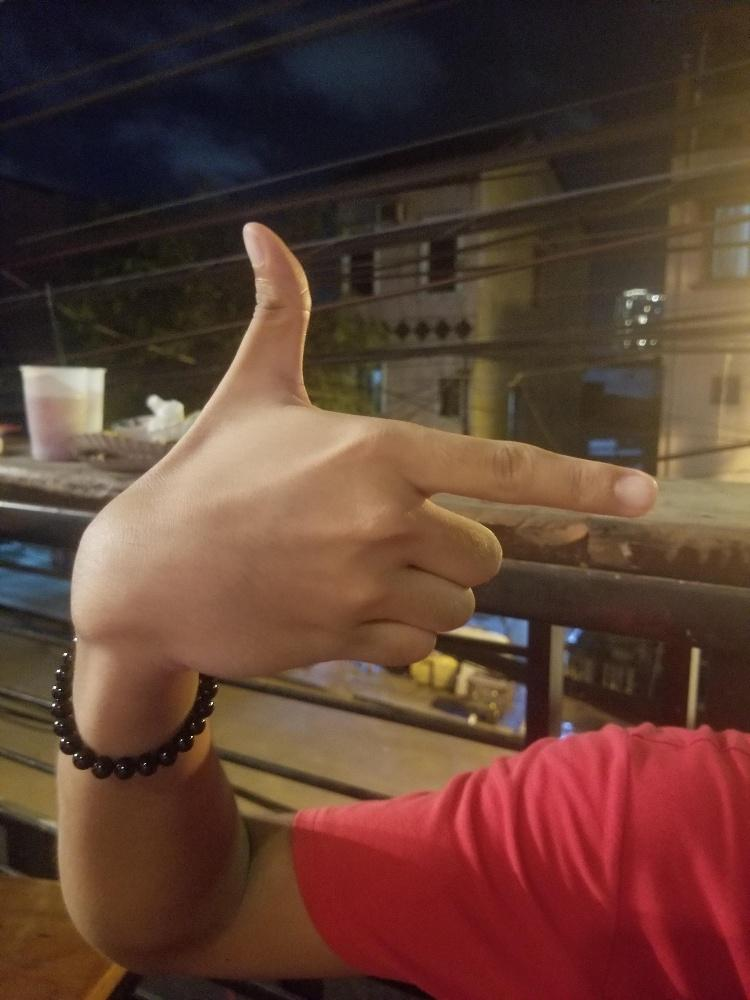g: (174, 218, 660, 676)
